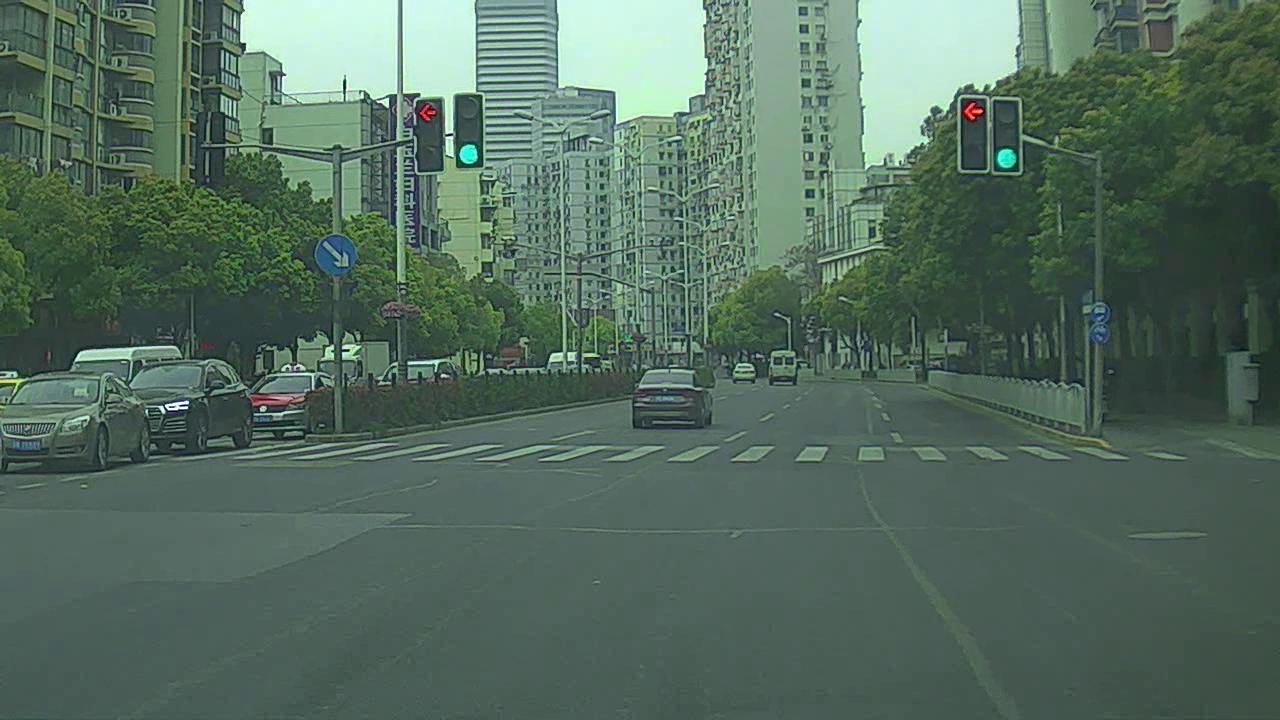traffic_light: (956, 95, 993, 174), (455, 94, 489, 172), (415, 99, 444, 174), (996, 98, 1024, 173)
